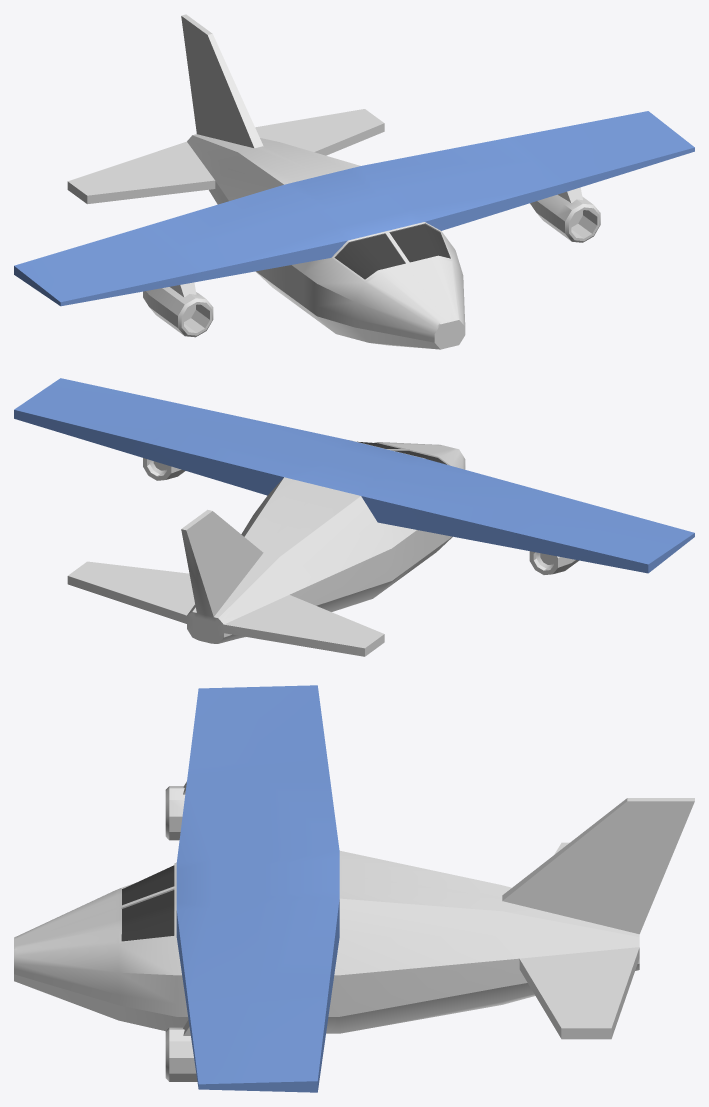
File: ship_15.fbx
The picture shows the model from 3 angles, top to bottom: view 1: azimuth 30°, elevation 25°; view 2: azimuth 150°, elevation 25°; view 3: azimuth 270°, elevation 25°; orthographic projection. The views are drawn at different scales.
Parts seen in each view (by area): view 1: ship_15; view 2: ship_15; view 3: ship_15.
Part boxes in pixels (x1,y1,x2,y2): ship_15: [14, 14, 694, 349]; ship_15: [14, 378, 694, 656]; ship_15: [14, 685, 694, 1092].
Size of the model in its own units: 1378 by 344 by 1002.
